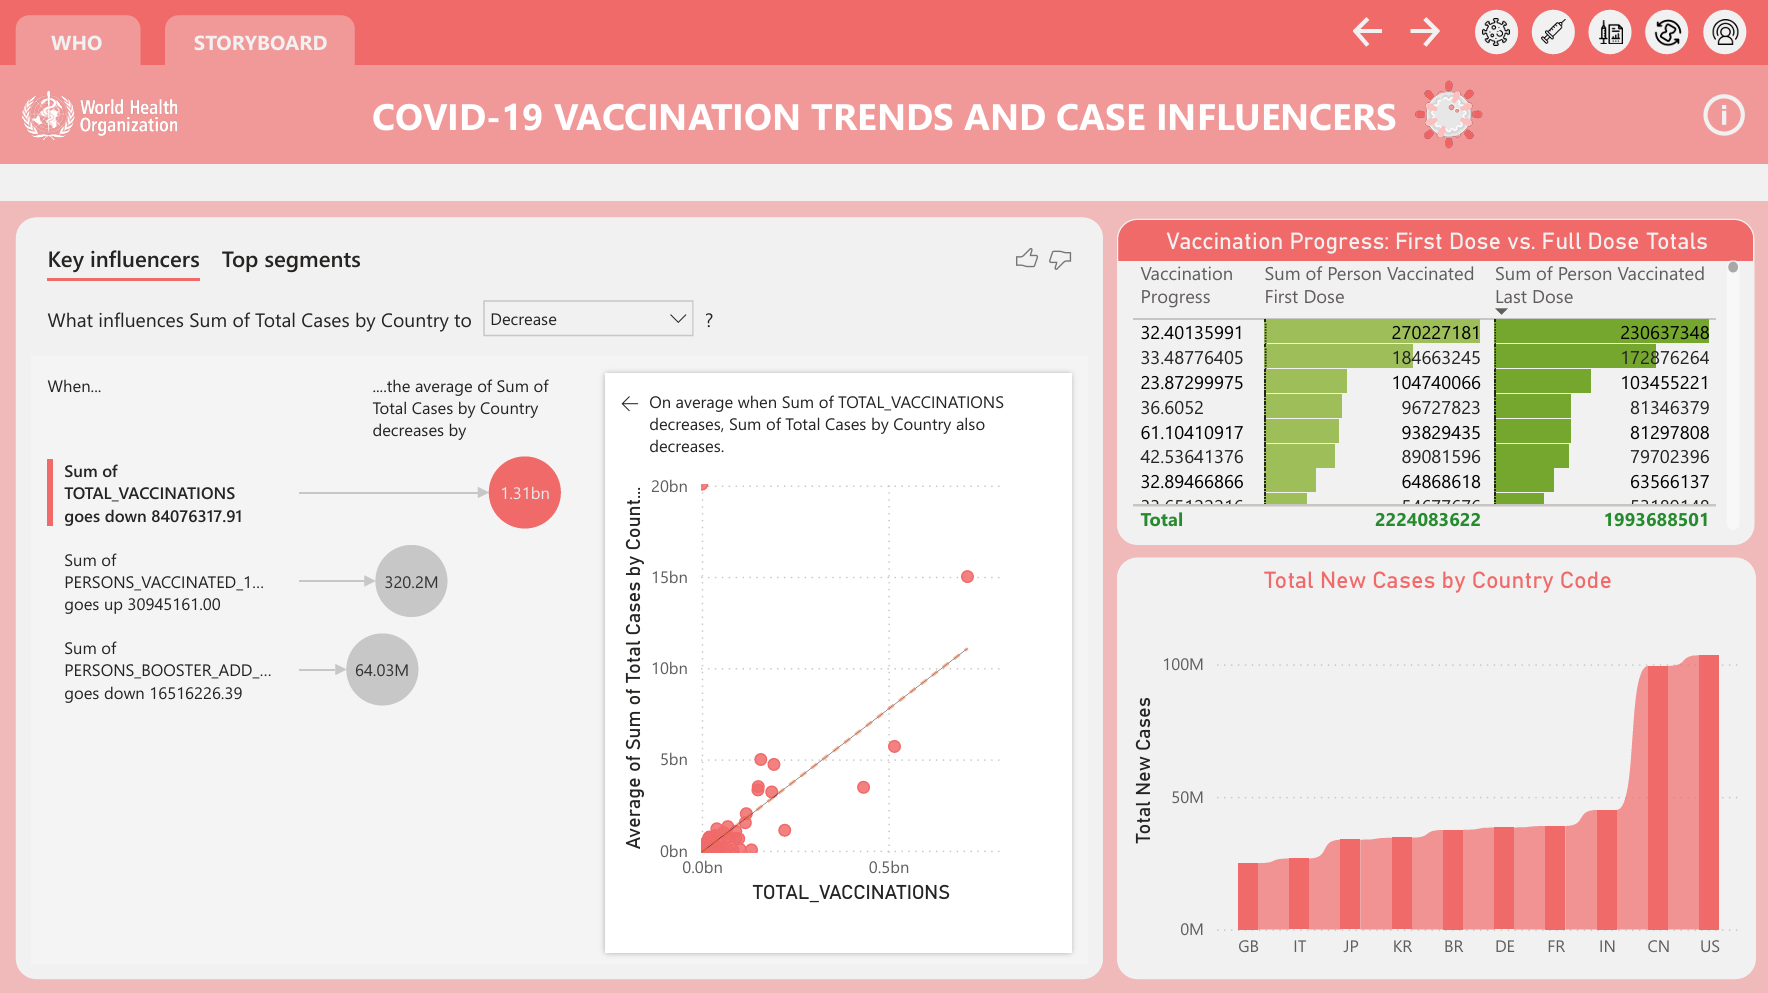

The page's visual inventory and layout, read from the dashboard file:
{"tool":"powerbi","page":{"name":"TRENDS AND INFLUENCERS","canvas":[1280,720],"ordinal":5},"visuals":[{"type":"shape","box":[0,0,1280,47],"z":0},{"type":"shape","box":[0,47,1280,72.1],"z":1000},{"type":"textbox","box":[155.1,57,969.8,52],"z":2000},{"type":"shape","box":[0,119.1,1280,26],"z":3000},{"type":"image","box":[1006.9,46.6,82.5,72.6],"z":5000},{"type":"actionButton","box":[1227,63,42,40],"z":6000},{"type":"keyDriversVisual","fields":{"Target":["WHO-COVID-19-global-data-grouping.Sum of Total Cases by Country"],"ExplainBy":["Sum(vaccination-data.TOTAL_VACCINATIONS)","Sum(vaccination-data.PERSONS_VACCINATED_1PLUS_DOSE)","Sum(vaccination-data.PERSONS_BOOSTER_ADD_DOSE)"]},"box":[11.7,156.9,786.4,551.4],"z":7000},{"type":"ribbonChart","title":"Total New Cases by Country Code","fields":{"Category":["WHO-COVID-19-global-data.Country_code"],"Y":["WHO-COVID-19-global-data.Total New Cases"]},"box":[807.9,402.6,461.8,305.8],"z":8000},{"type":"tableEx","title":"Vaccination Progress: First Dose vs. Full Dose Totals","fields":{"Values":["vaccination-data.Vaccination Progress","Sum(vaccination-data.PERSONS_VACCINATED_1PLUS_DOSE)","Sum(vaccination-data.PERSONS_LAST_DOSE)"]},"box":[807.9,157.8,460.9,235.8],"z":9000},{"type":"textbox","box":[154.9,59.8,970.3,46.1],"z":10000},{"type":"image","box":[12,57,122.1,52],"z":11000},{"type":"shape","box":[1066.7,7.1,31,31.9],"z":12000},{"type":"shape","box":[1107.9,7.1,31,31.9],"z":13000},{"type":"shape","box":[1149.2,7.1,31,31.9],"z":14000},{"type":"shape","box":[1190.4,7.1,31,31.9],"z":15000},{"type":"shape","box":[1231.6,7.1,31,31.9],"z":16000},{"type":"image","box":[1066.1,7.8,31.7,30],"z":17000},{"type":"image","box":[1107.8,8.3,30,29.1],"z":18000},{"type":"image","box":[1150.9,9.6,27.8,27],"z":19000},{"type":"image","box":[1190.7,7.4,31.5,31.9],"z":20000},{"type":"image","box":[1231.7,7.8,31.7,30.4],"z":21000},{"type":"shape","box":[11.8,10.9,90,39.1],"z":22000},{"type":"textbox","box":[27.3,15.5,58.2,31.8],"z":23000},{"type":"group","id":"g1","title":"Group 1","box":[975.5,8.4,80.9,30],"z":24000},{"type":"actionButton","box":[1015.5,8.4,40.9,30],"z":25000,"group":"g1"},{"type":"shape","box":[120,10.9,137.3,39.1],"z":25000},{"type":"actionButton","box":[975.5,8.4,40,30],"z":26000,"group":"g1"},{"type":"textbox","box":[130,14.5,118.2,31.8],"z":26000}]}

Visuals, with their boxes in screenshot pixels (x1, y1, x2, y2), scaled from the page's 1280x720 canvas onto the 1768x993 screenshot:
shape: [0, 0, 1767, 65]
shape: [0, 65, 1767, 164]
textbox: [214, 79, 1554, 150]
shape: [0, 164, 1767, 200]
image: [1391, 64, 1505, 164]
actionButton: [1695, 87, 1753, 142]
keyDriversVisual - WHO-COVID-19-global-data-grouping.Sum of Total Cases by Country x Sum(vaccination-data.TOTAL_VACCINATIONS): [16, 216, 1102, 977]
"Total New Cases by Country Code" ribbonChart: [1116, 555, 1754, 977]
"Vaccination Progress: First Dose vs. Full Dose Totals" tableEx: [1116, 218, 1753, 543]
textbox: [214, 82, 1554, 146]
image: [17, 79, 185, 150]
shape: [1473, 10, 1516, 54]
shape: [1530, 10, 1573, 54]
shape: [1587, 10, 1630, 54]
shape: [1644, 10, 1687, 54]
shape: [1701, 10, 1744, 54]
image: [1473, 11, 1516, 52]
image: [1530, 11, 1572, 52]
image: [1590, 13, 1628, 50]
image: [1645, 10, 1688, 54]
image: [1701, 11, 1745, 53]
shape: [16, 15, 141, 69]
textbox: [38, 21, 118, 65]
"Group 1" group: [1347, 12, 1459, 53]
actionButton: [1403, 12, 1459, 53]
shape: [166, 15, 355, 69]
actionButton: [1347, 12, 1403, 53]
textbox: [180, 20, 343, 64]
